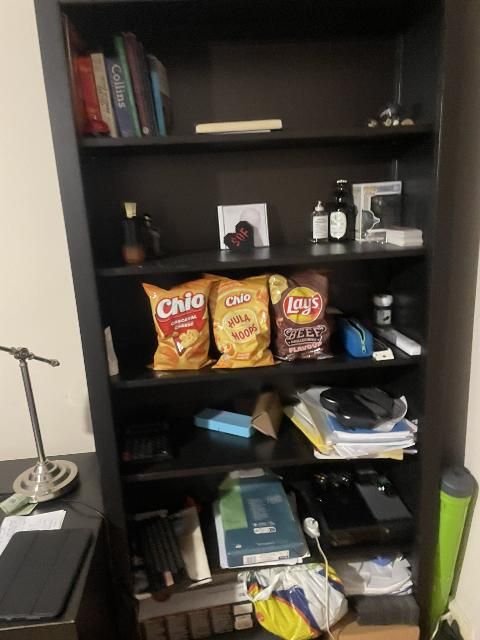Chio Cascaval 125g: (141, 278, 216, 372)
Chio Hula Hoops Cheese 70g: (205, 272, 278, 368)
Lays Beef Grilled Ribs 125g: (269, 270, 333, 361)
